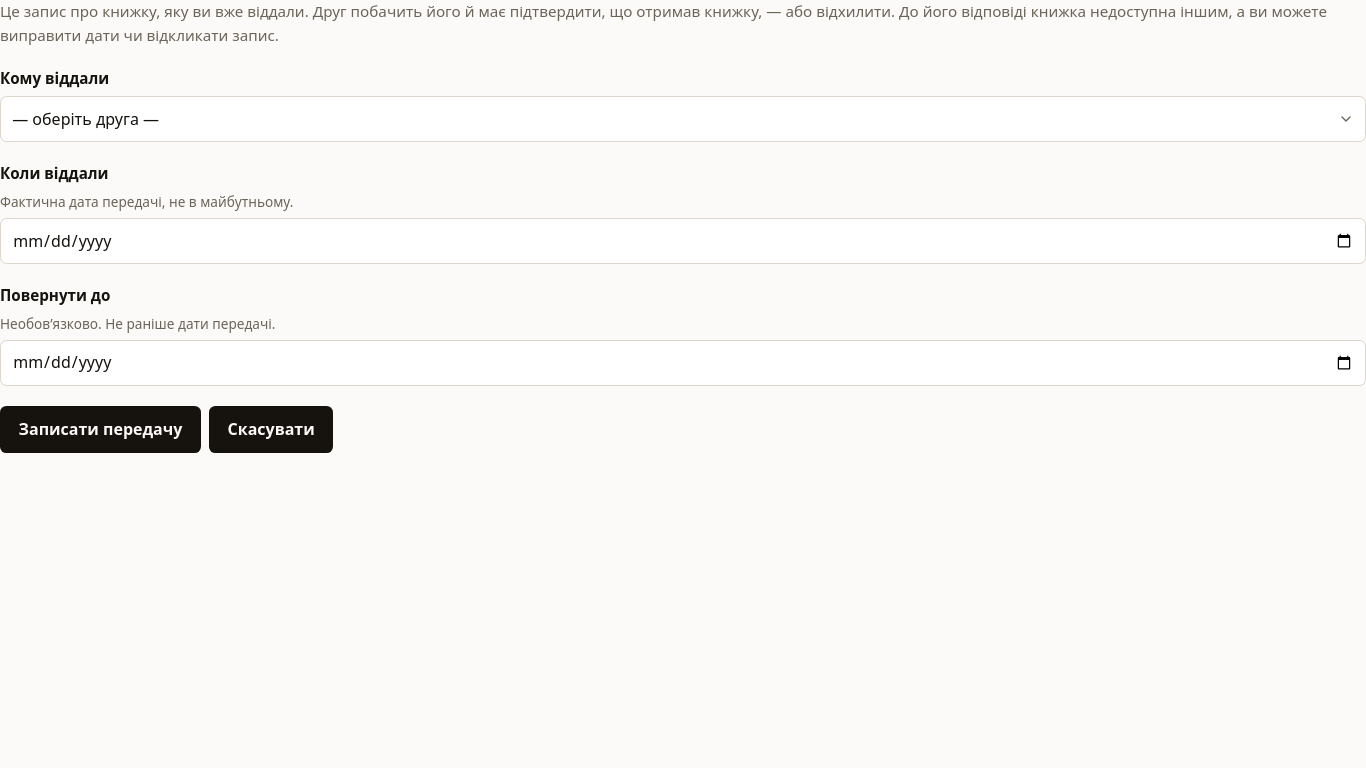
RecordExistingLoanForm (Stage 10, 10e) › error: відмова API показується, форма лишається для повтору
Step 1. Click the dropdown named "Кому віддали" → (86, 119), box [0, 96, 1365, 142]
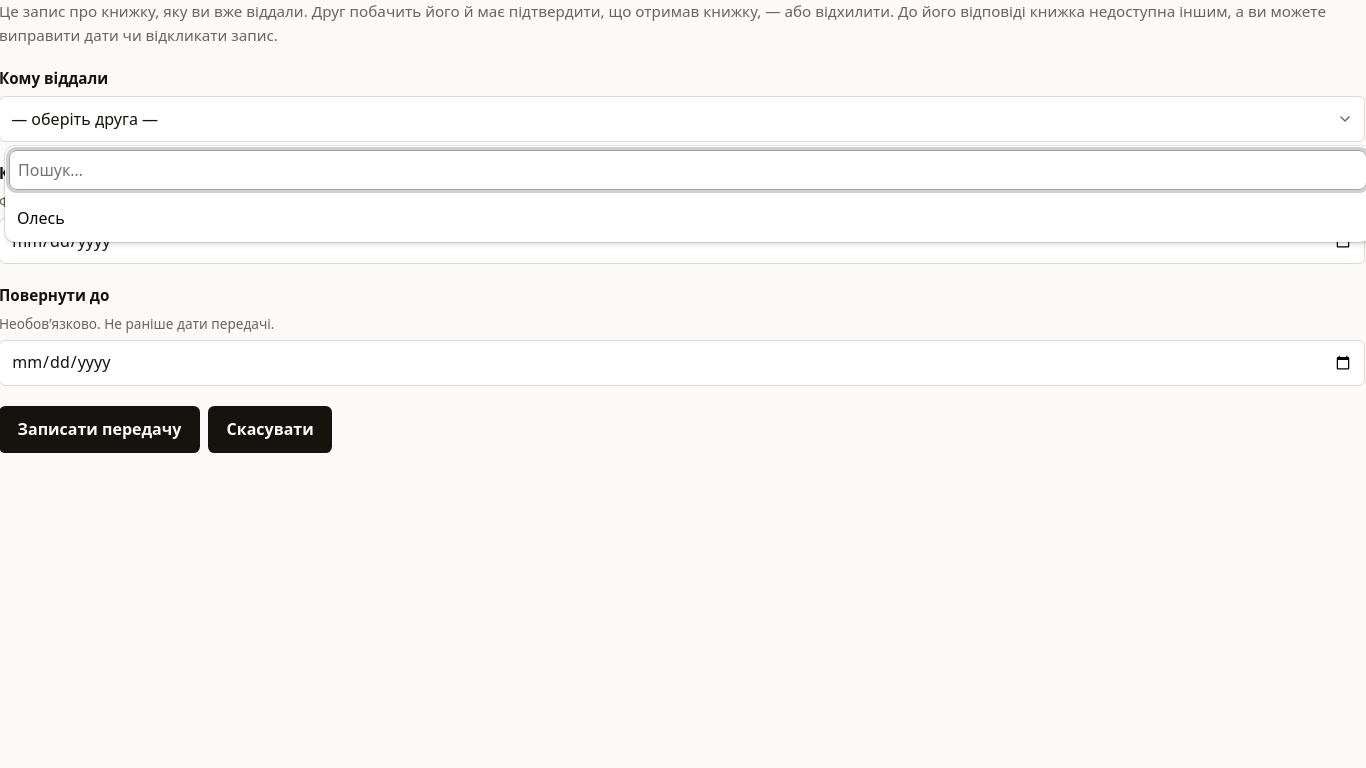
Step 2. Click the option "Олесь" → (41, 218), box [17, 207, 65, 229]
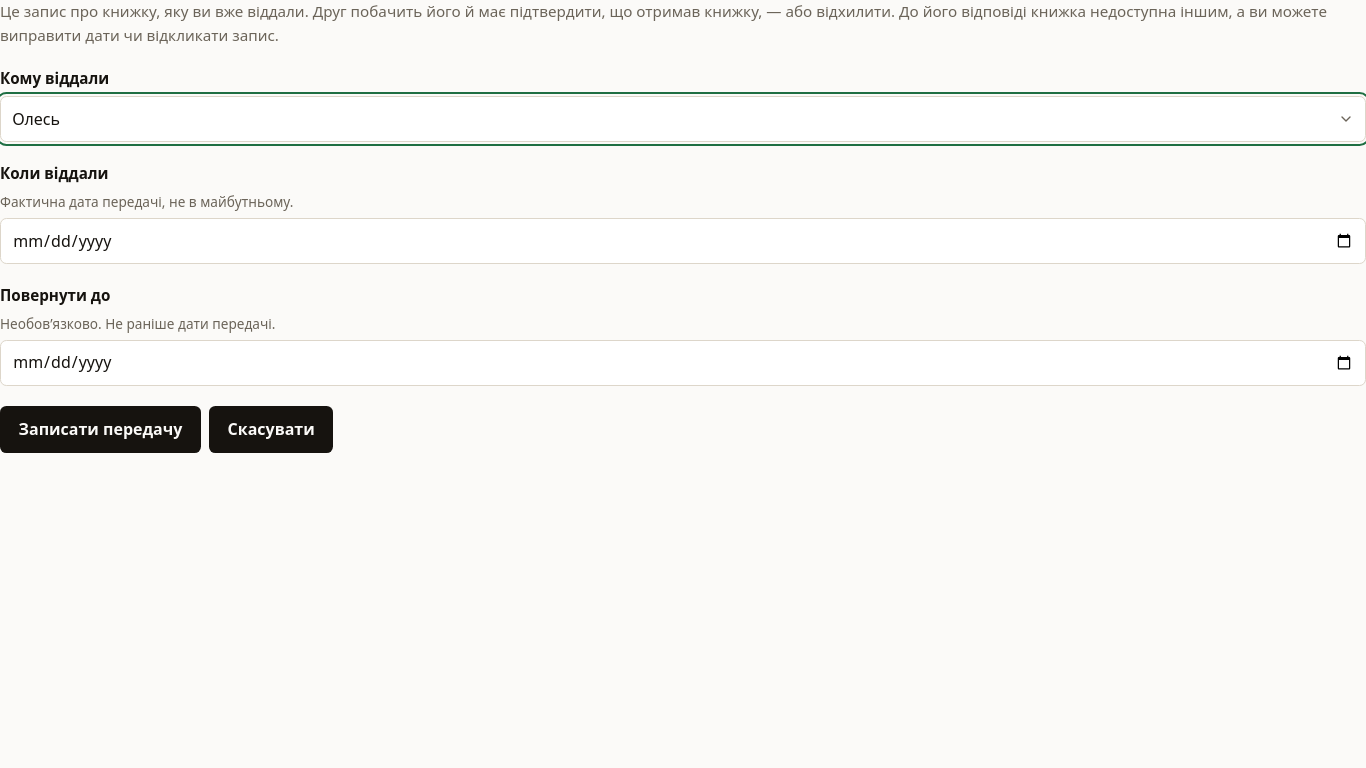
Step 3. Type "2026-09-01" into the date field labelled "Коли віддали" → (683, 241), box [0, 218, 1365, 264]
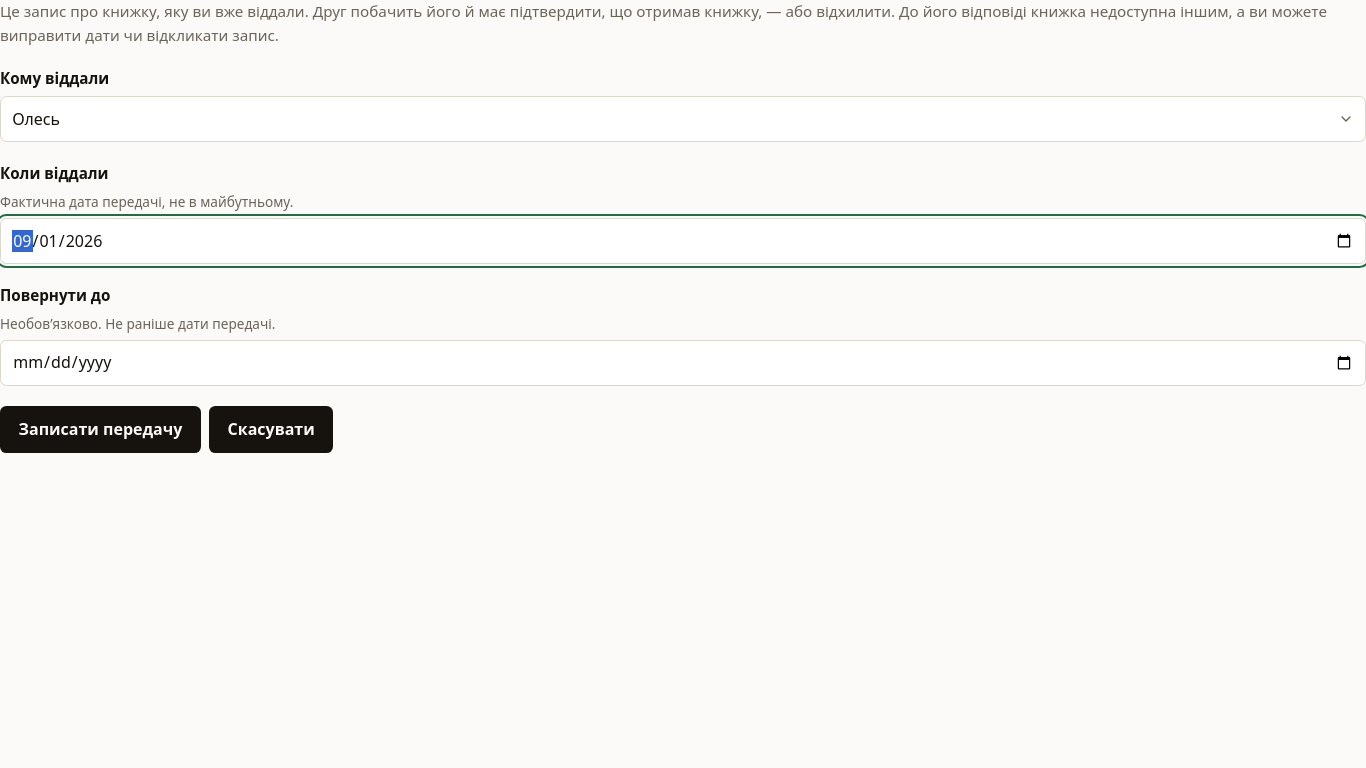
Step 4. Click the button "Записати передачу" → (100, 430), box [0, 406, 201, 454]
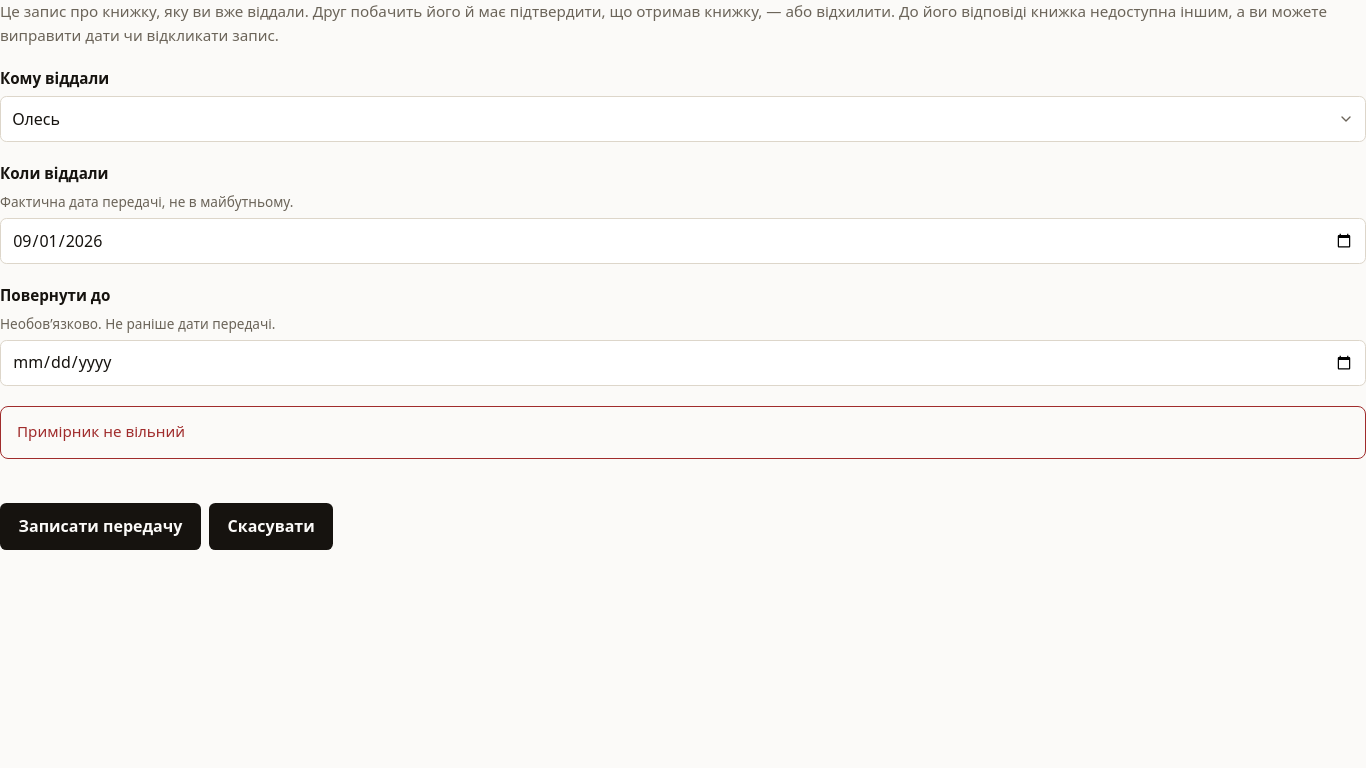
Expected: the button "Записати передачу" is enabled, [0, 503, 201, 550]
Expected: the text "Примірник не вільний" is shown, [17, 422, 185, 442]
